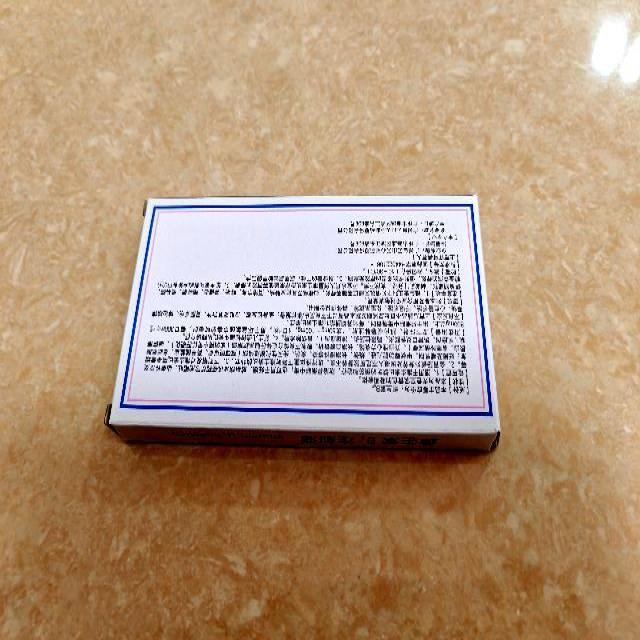box: (105, 194, 501, 449)
